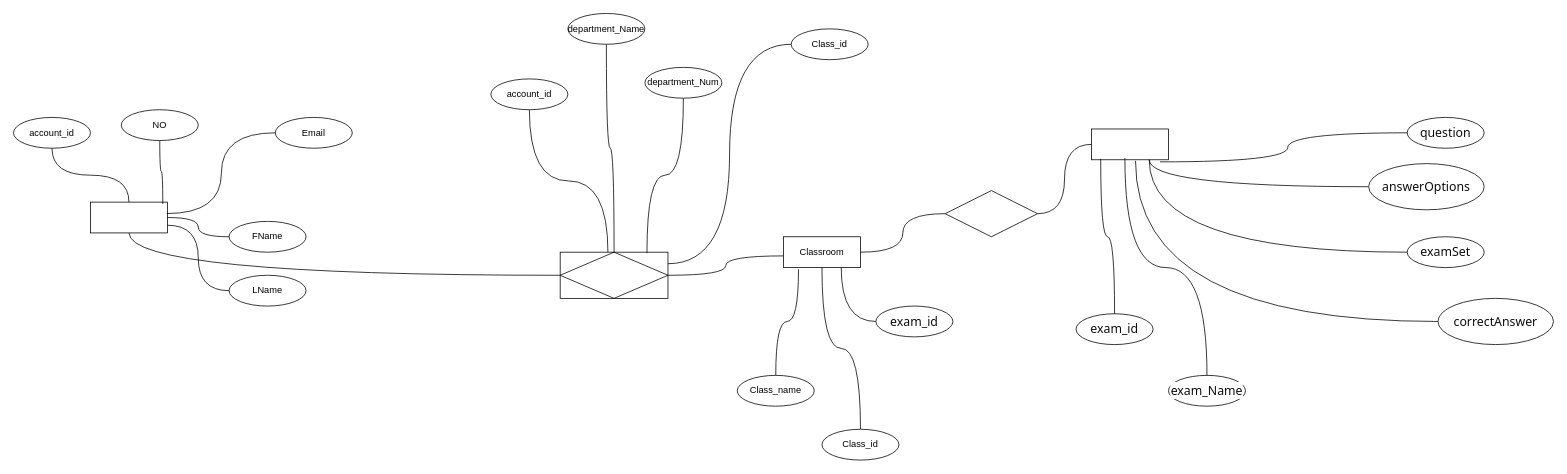
Some shapes in this 1567 by 474 pixel diagram are drawn without their labels. Here are the shapes that lost their labels. From the top down, the centre of each, then its label:
the point at 1129,144: exam
the point at 128,217: account
the point at 991,213: มี
the point at 613,274: department
